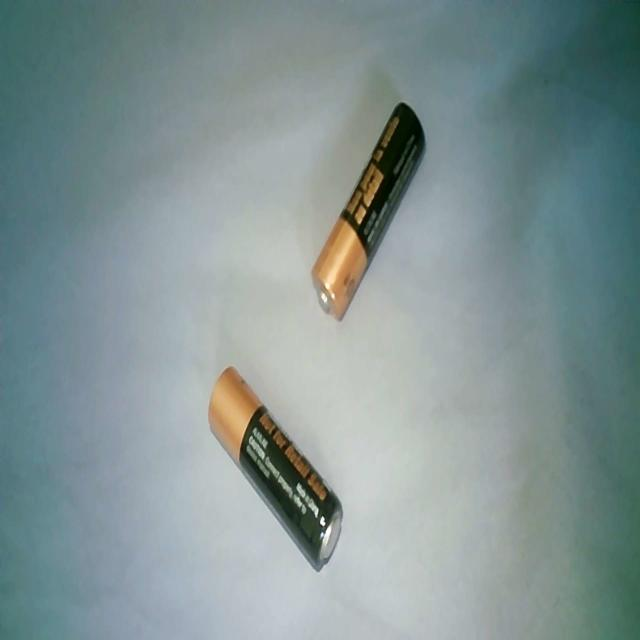AA: (207, 363, 343, 572), (310, 100, 426, 321)
